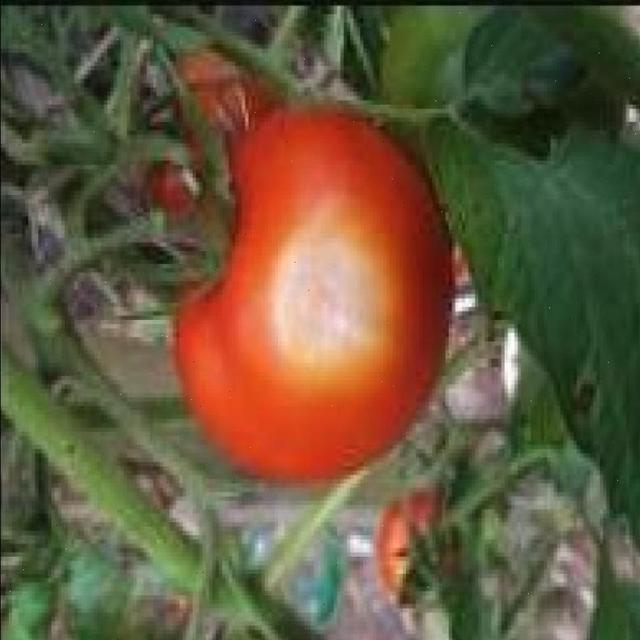Sunscald Fruit: (164, 146, 267, 270)
